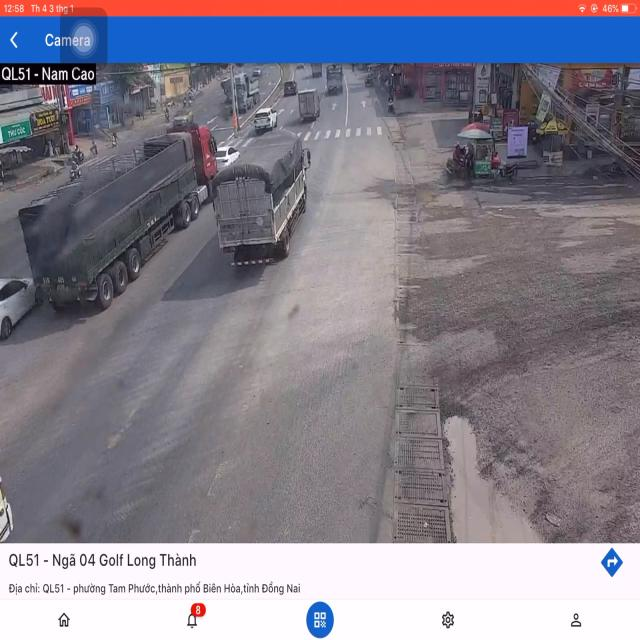car: (0, 276, 38, 338), (254, 108, 278, 136)
truck: (29, 126, 213, 318), (215, 131, 309, 262), (298, 88, 318, 125)
